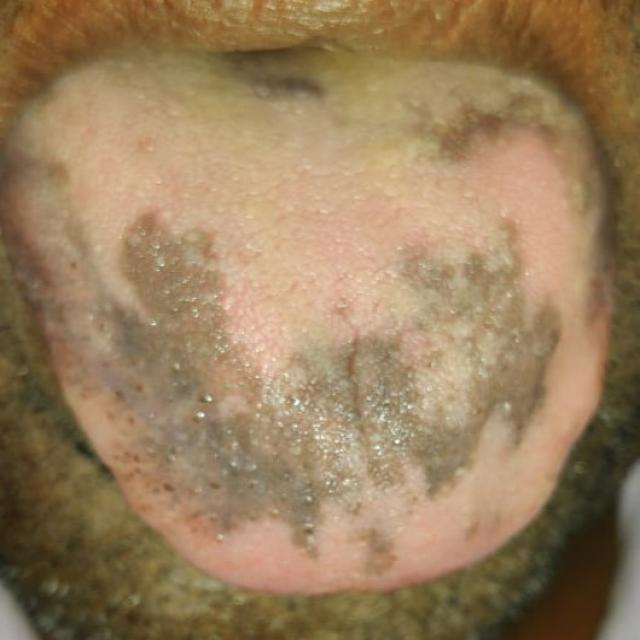Cancer: (55, 201, 593, 535)
